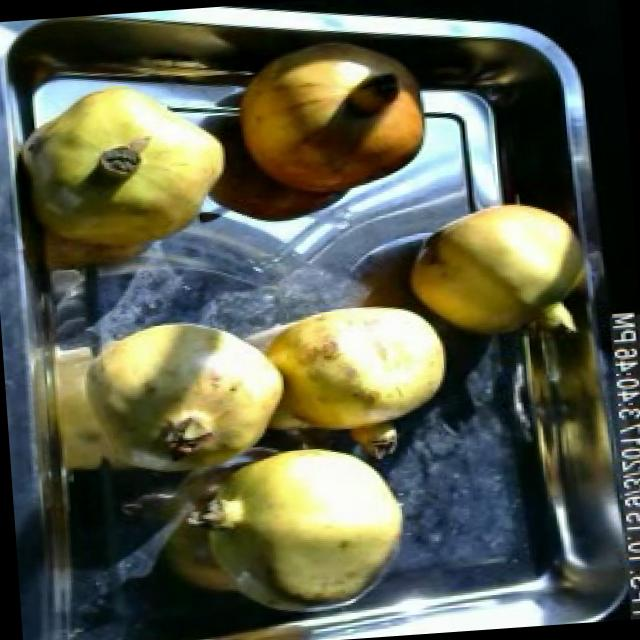fruit: (180, 422, 426, 632), (12, 64, 246, 272), (222, 25, 440, 212), (254, 287, 460, 452), (394, 189, 595, 348), (156, 318, 302, 461)
